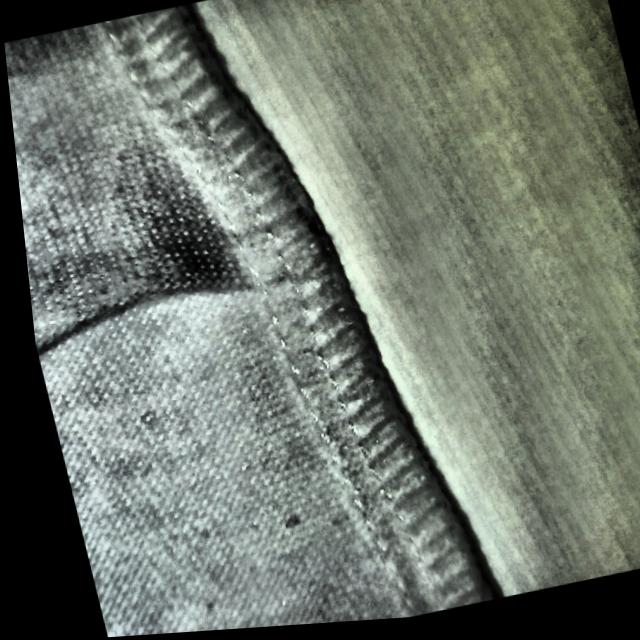seam: (15, 170, 356, 386)
